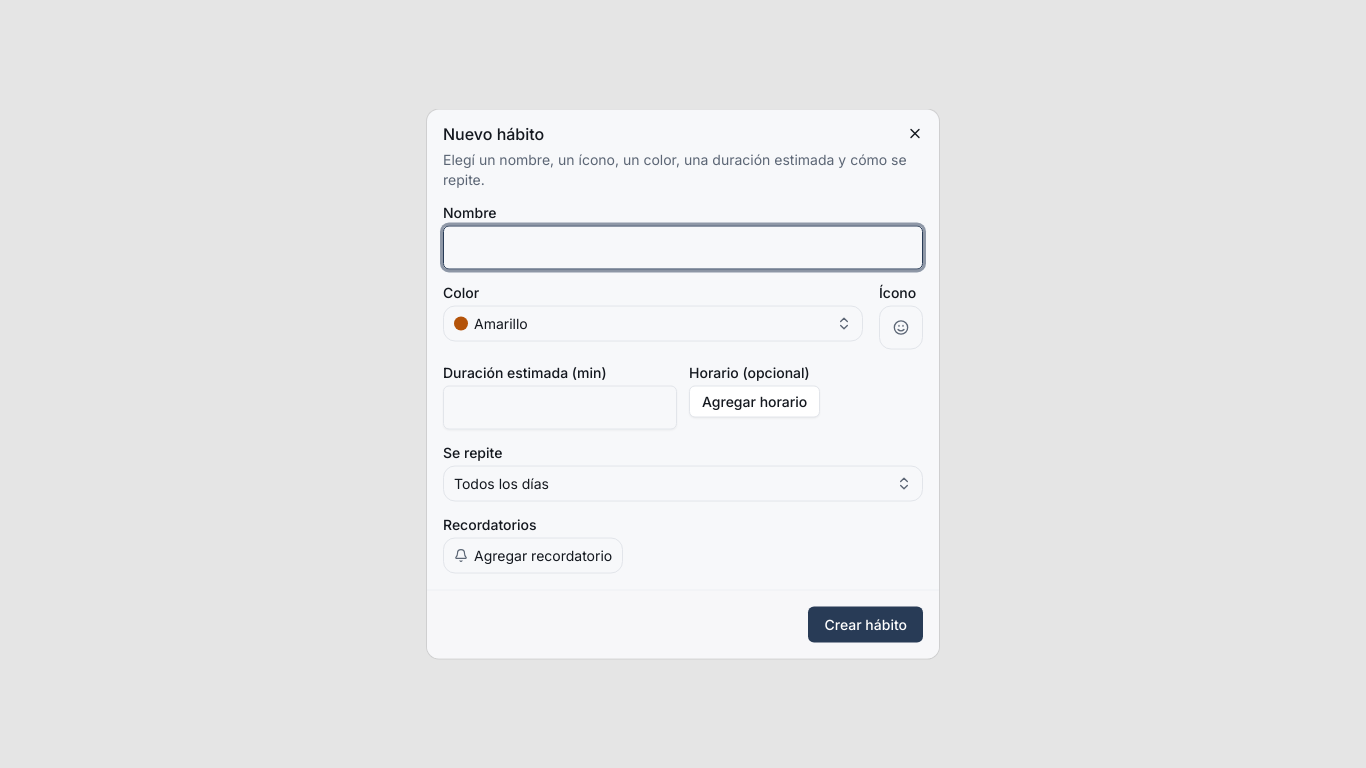
HabitFormDialog › no crea el hábito y muestra los errores cuando faltan los campos requeridos
Click the button "Crear hábito".
click(866, 624)  # box [808, 606, 923, 642]
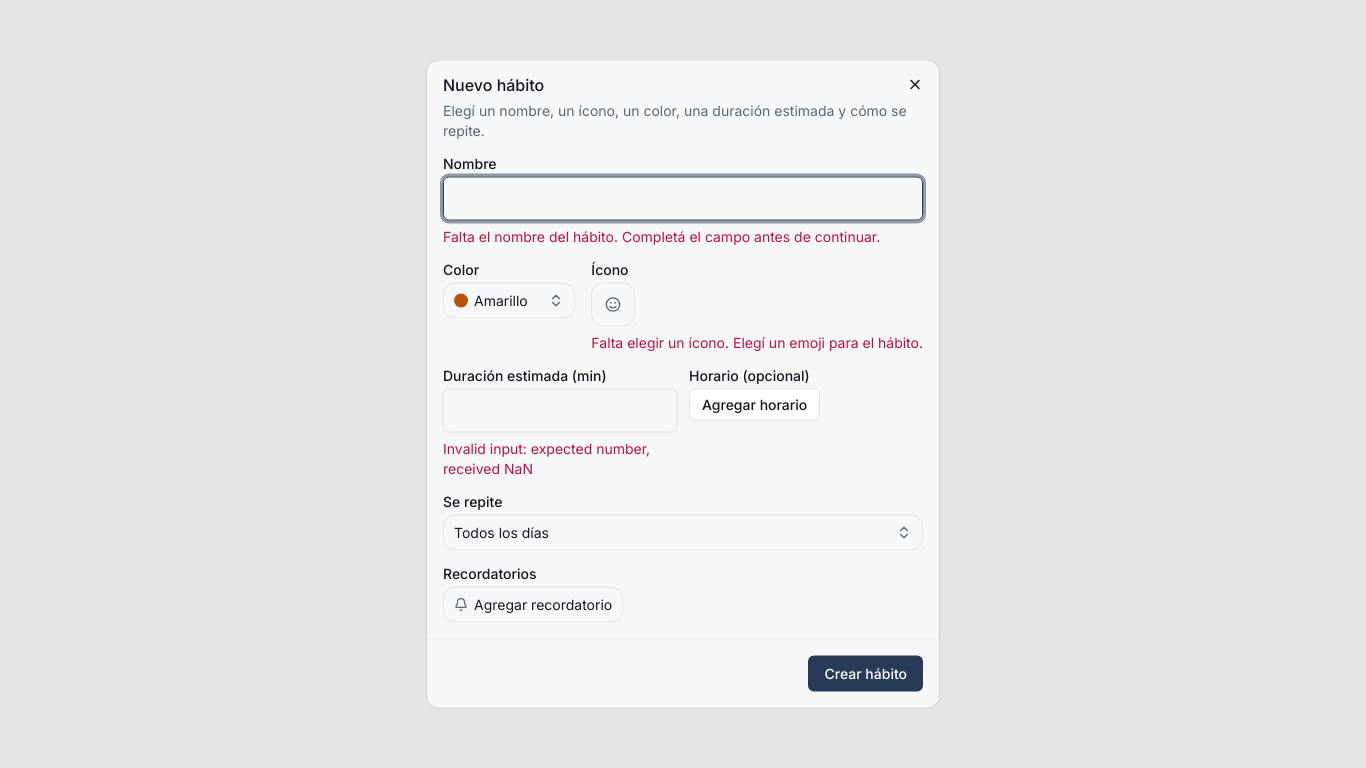
Now the text "Falta el nombre del hábito. Completá el campo antes de continuar." is shown, box [443, 226, 923, 246]
Now the text "Falta elegir un ícono. Elegí un emoji para el hábito." is shown, box [591, 332, 923, 352]
